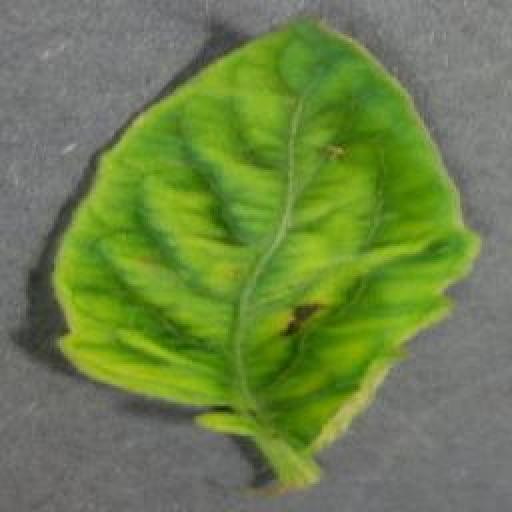Yellow Leaf Curl Virus: (47, 18, 484, 450)
